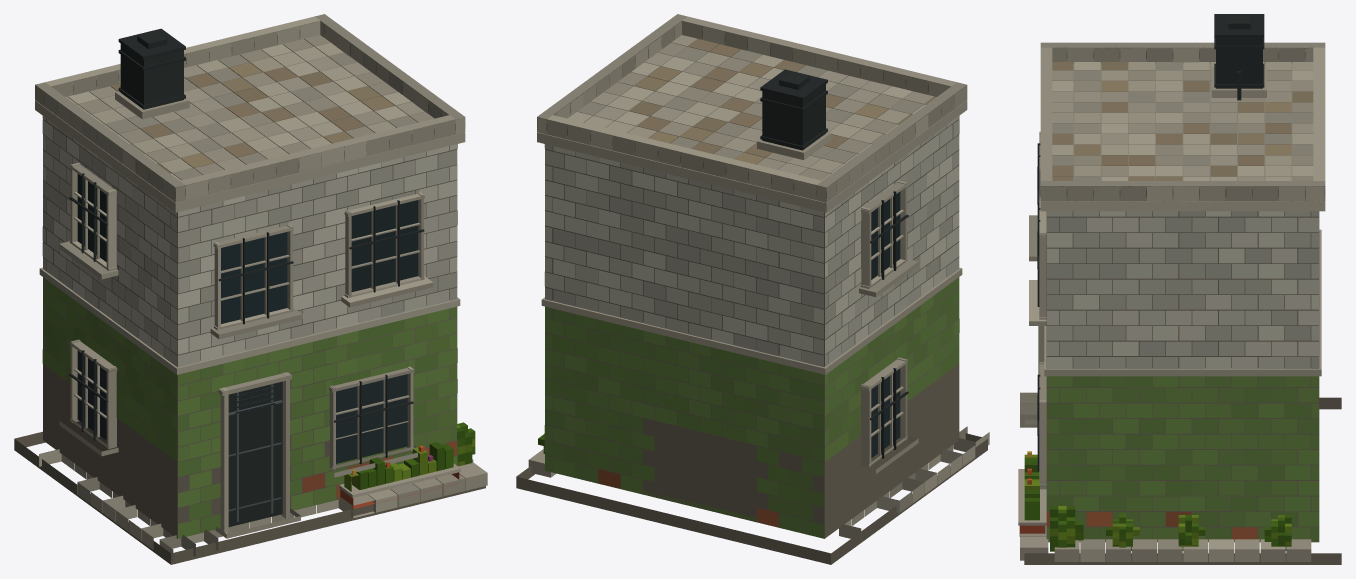
File: SM_StreetFrontage_097.fbx
3 renders of one model, left to right at view 1: azimuth 30°, elevation 25°; view 2: azimuth 150°, elevation 25°; view 3: azimuth 270°, elevation 25°, orthographic.
Visible parts, largest first — view 1: SM_StreetFrontage_097; view 2: SM_StreetFrontage_097; view 3: SM_StreetFrontage_097.
Boxes of the visible parts, x1,y1,x2,y2 form: SM_StreetFrontage_097: [14, 14, 487, 564]; SM_StreetFrontage_097: [516, 14, 989, 564]; SM_StreetFrontage_097: [1018, 14, 1341, 564].
Bounding box in the file's own units: 8 × 6.84 × 10.12.
